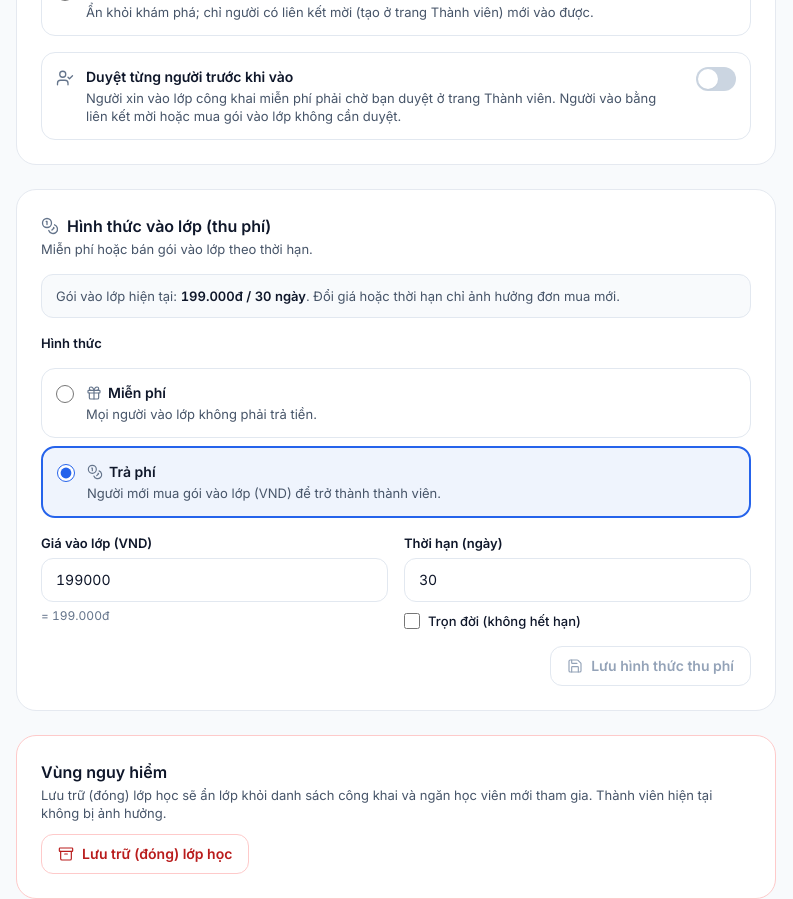
Test: StudioSettings - fee (Hình thức vào lớp) › PAID -> PAID (new price): says the new price only applies to new orders
The width and height of the screenshot is (793, 899).
(page scrolled)
Type "249000" into the number field labelled "Giá vào lớp (VND)" at (214, 580), box x1=41 y1=558 x2=388 y2=602
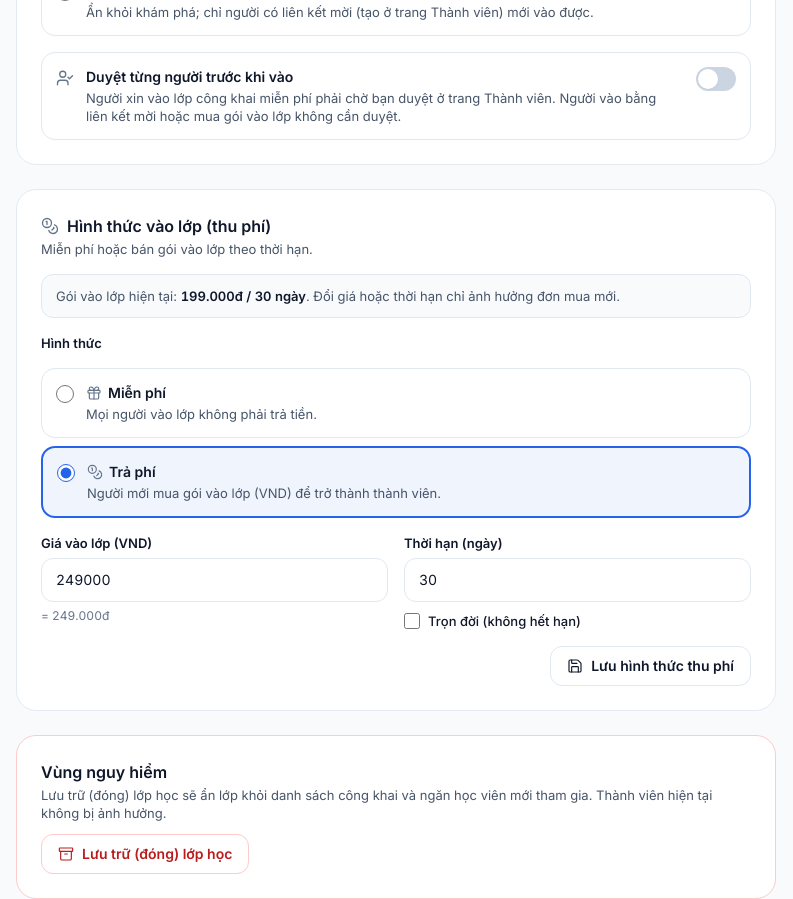
Click the button "Lưu hình thức thu phí" at (651, 666), box x1=550 y1=646 x2=751 y2=686
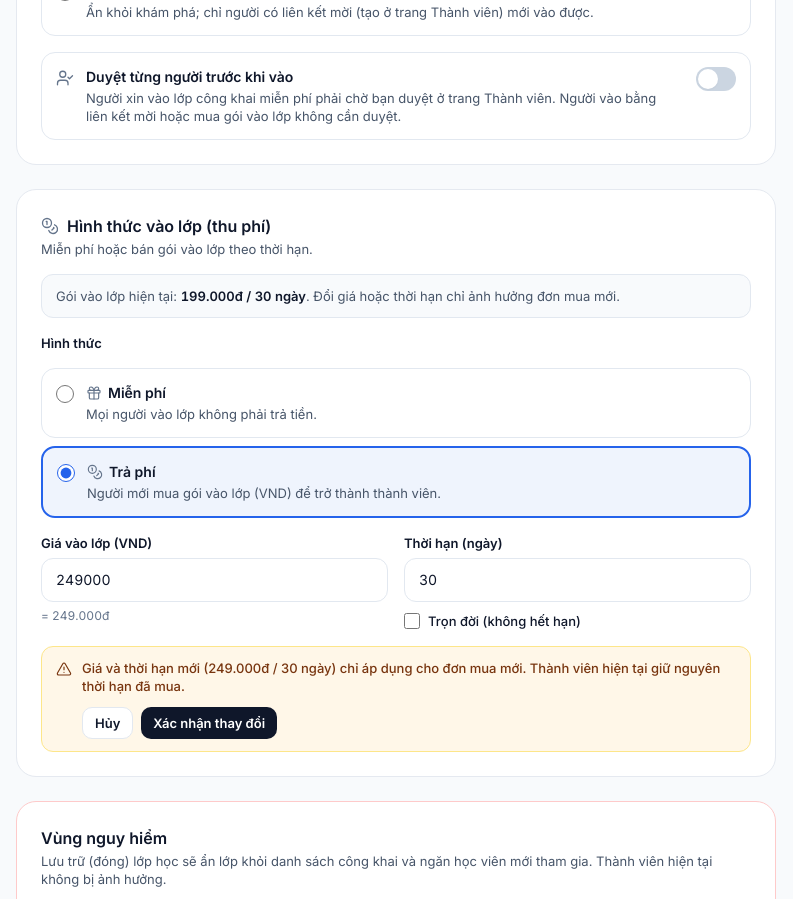
Result: the button with aria-label "Xác nhận đổi hình thức thu phí" shows "chỉ áp dụng cho đơn mua mới" at x1=82 y1=660 x2=720 y2=694
